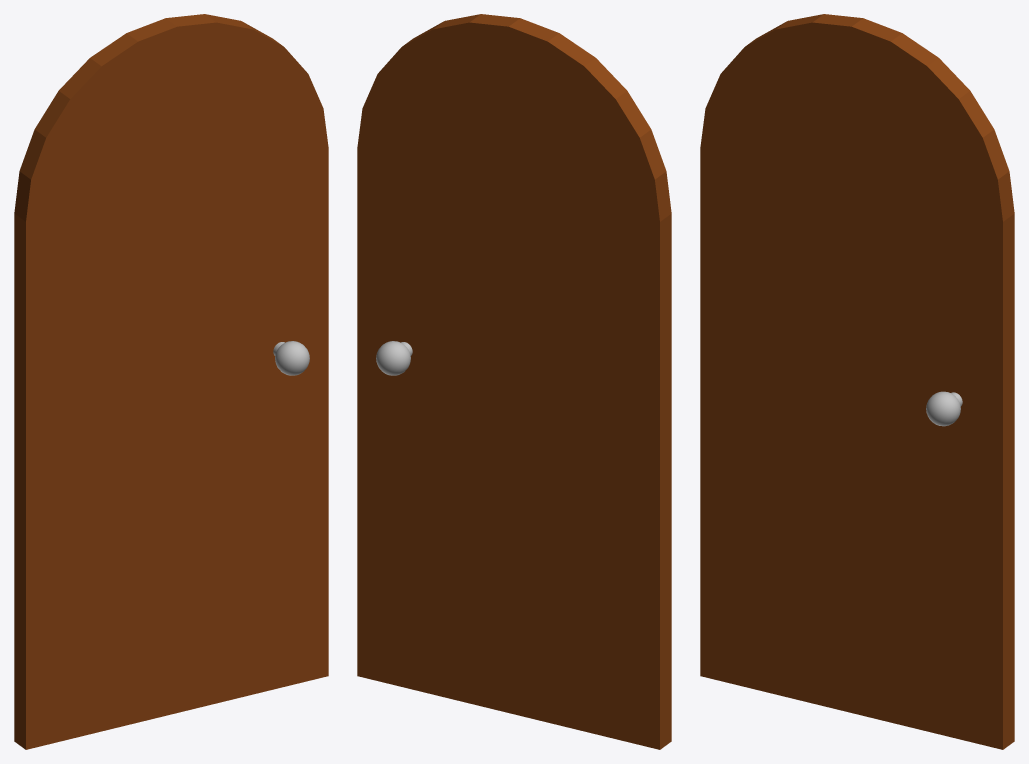
The model's file is door2.fbx.
The picture shows the model from 3 angles, left to right: view 1: azimuth 30°, elevation 25°; view 2: azimuth 150°, elevation 25°; view 3: azimuth 330°, elevation 25°; orthographic projection.
Parts seen in each view (by area): view 1: Mesh3_Group_3_1 Model, Mesh1_Handle1 Group_3_1 Model; view 2: Mesh3_Group_3_1 Model, Mesh2_Handle2 Group_3_1 Model; view 3: Mesh3_Group_3_1 Model, Mesh1_Handle1 Group_3_1 Model.
Part boxes in pixels (x1,y1,x2,y2): Mesh3_Group_3_1 Model: [14, 14, 328, 749]; Mesh1_Handle1 Group_3_1 Model: [273, 341, 309, 375]; Mesh3_Group_3_1 Model: [357, 14, 671, 749]; Mesh2_Handle2 Group_3_1 Model: [376, 341, 412, 375]; Mesh3_Group_3_1 Model: [700, 14, 1014, 749]; Mesh1_Handle1 Group_3_1 Model: [926, 391, 962, 426].
Size of the model in its own units: 0.3 by 0.65 by 0.09.
